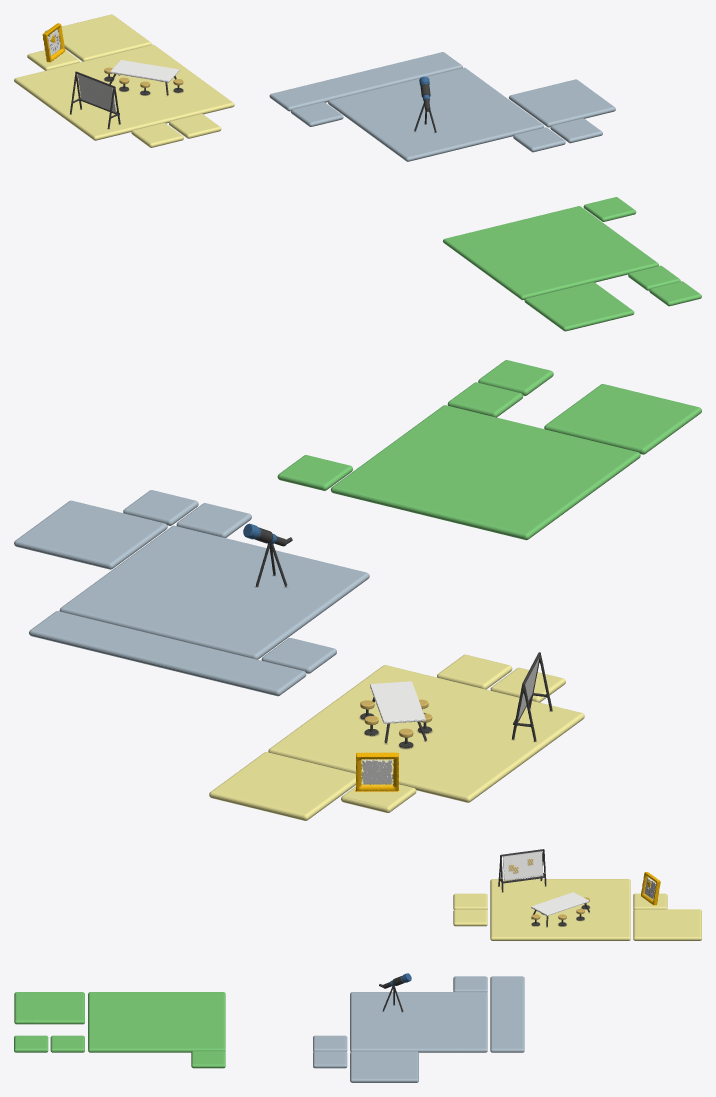
The model's file is Ebene.obj.
3 renders of one model, top to bottom at view 1: azimuth 30°, elevation 25°; view 2: azimuth 150°, elevation 25°; view 3: azimuth 270°, elevation 25°, orthographic. The views are drawn at different scales.
Parts seen in each view (by area): view 1: 265775_23_05_05_07_47_32; view 2: 265775_23_05_05_07_47_32; view 3: 265775_23_05_05_07_47_32.
Boxes of the visible parts, box(x1,y1,x2,y2) form: 265775_23_05_05_07_47_32: box(14, 14, 701, 331); 265775_23_05_05_07_47_32: box(14, 360, 701, 820); 265775_23_05_05_07_47_32: box(14, 849, 701, 1082).
Bounding box in the file's own units: 20.43 × 3.58 × 31.99.
